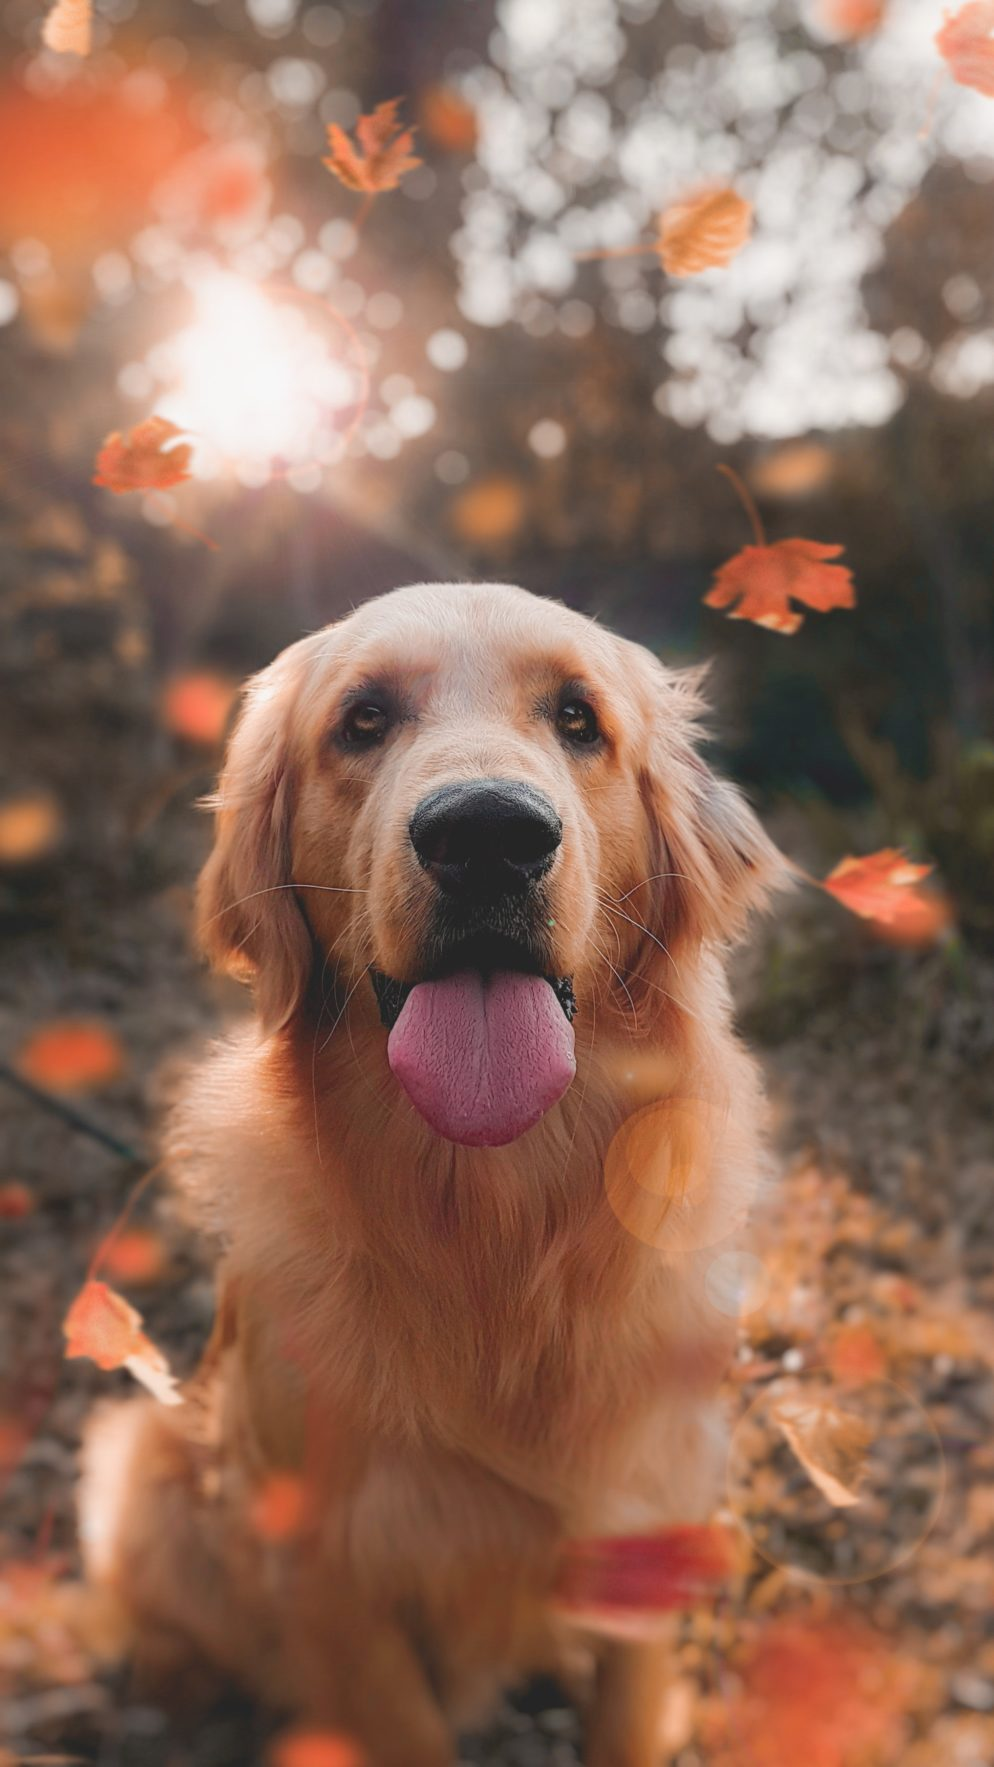dog: (158, 460, 812, 1319)
